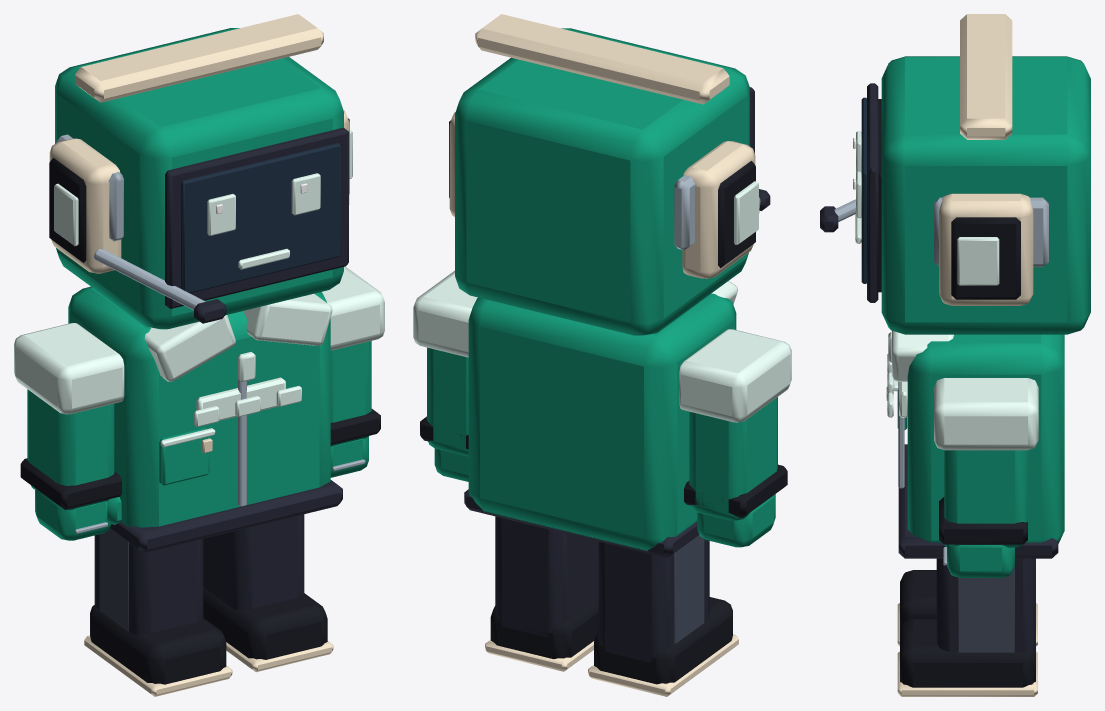
Rendered from ChatGPT.glb.
3 renders of one model, left to right at view 1: azimuth 30°, elevation 25°; view 2: azimuth 150°, elevation 25°; view 3: azimuth 270°, elevation 25°, orthographic. The views are drawn at different scales.
Visible parts, largest first — view 1: Batch_Body_CITY / #10a37f, Batch_Head_CITY / #10a37f, Batch_Body_CITY / #e9fff8, Batch_Head_CITY / #1e3042.001, Batch_Head_CITY / cream.014, Leg_R_trouser, Batch_Head_CITY / charcoal.014, Leg_L_trouser, Arm_L_sleeve, Leg_L_shoe, Leg_R_shoe, Batch_Body_CITY / charcoal.014 (+13 smaller); view 2: Batch_Head_CITY / #10a37f, Batch_Body_CITY / #10a37f, Batch_Head_CITY / cream.014, Batch_Body_CITY / #e9fff8, Leg_R_trouser, Leg_L_trouser, Arm_L_sleeve, Leg_L_shoe, Arm_R_sleeve, Leg_R_shoe, Batch_Leg_L_CITY / #475061.014, Arm_L_hand (+8 smaller); view 3: Batch_Head_CITY / #10a37f, Batch_Body_CITY / #10a37f, Batch_Head_CITY / cream.014, Batch_Body_CITY / #e9fff8, Arm_R_sleeve, Leg_R_shoe, Batch_Head_CITY / rubber.014, Batch_Leg_R_CITY / #475061.014, Leg_R_trouser, Batch_Head_CITY / charcoal.014, Batch_Body_CITY / charcoal.014, Batch_Head_CITY / #e9fff8 (+8 smaller).
Part boxes in pixels (<box>): Batch_Body_CITY / #10a37f: <box>68,286,330,527</box>; Batch_Head_CITY / #10a37f: <box>55,28,343,329</box>; Batch_Body_CITY / #e9fff8: <box>14,266,384,447</box>; Batch_Head_CITY / #1e3042.001: <box>181,143,340,293</box>; Batch_Head_CITY / cream.014: <box>49,14,349,273</box>; Leg_R_trouser: <box>203,514,304,610</box>; Batch_Head_CITY / charcoal.014: <box>165,127,348,323</box>; Leg_L_trouser: <box>94,534,203,635</box>; Arm_L_sleeve: <box>27,389,114,510</box>; Leg_L_shoe: <box>90,605,226,684</box>; Leg_R_shoe: <box>203,587,327,659</box>; Batch_Body_CITY / charcoal.014: <box>110,480,342,553</box>; Batch_Head_CITY / #10a37f: <box>455,28,749,335</box>; Batch_Body_CITY / #10a37f: <box>468,293,736,551</box>; Batch_Head_CITY / cream.014: <box>449,14,755,278</box>; Batch_Body_CITY / #e9fff8: <box>413,270,791,422</box>; Leg_R_trouser: <box>495,516,598,637</box>; Leg_L_trouser: <box>598,539,709,662</box>; Arm_L_sleeve: <box>689,397,777,520</box>; Leg_L_shoe: <box>594,597,732,684</box>; Arm_R_sleeve: <box>427,347,468,456</box>; Leg_R_shoe: <box>490,599,598,659</box>; Batch_Leg_L_CITY / #475061.014: <box>674,535,704,643</box>; Arm_L_hand: <box>697,494,775,547</box>; Batch_Head_CITY / #10a37f: <box>881,56,1090,334</box>; Batch_Body_CITY / #10a37f: <box>897,334,1064,543</box>; Batch_Head_CITY / cream.014: <box>939,14,1033,305</box>; Batch_Body_CITY / #e9fff8: <box>887,331,1038,450</box>; Arm_R_sleeve: <box>944,450,1027,547</box>; Leg_R_shoe: <box>900,618,1035,687</box>; Batch_Head_CITY / rubber.014: <box>878,99,1020,299</box>; Batch_Leg_R_CITY / #475061.014: <box>957,567,1014,652</box>; Leg_R_trouser: <box>936,558,1035,654</box>; Batch_Head_CITY / charcoal.014: <box>820,83,878,302</box>; Batch_Body_CITY / charcoal.014: <box>898,444,1058,558</box>; Batch_Head_CITY / #e9fff8: <box>855,214,999,285</box>.
Bounding box in the file's own units: 0.71 × 1.24 × 0.5175.
